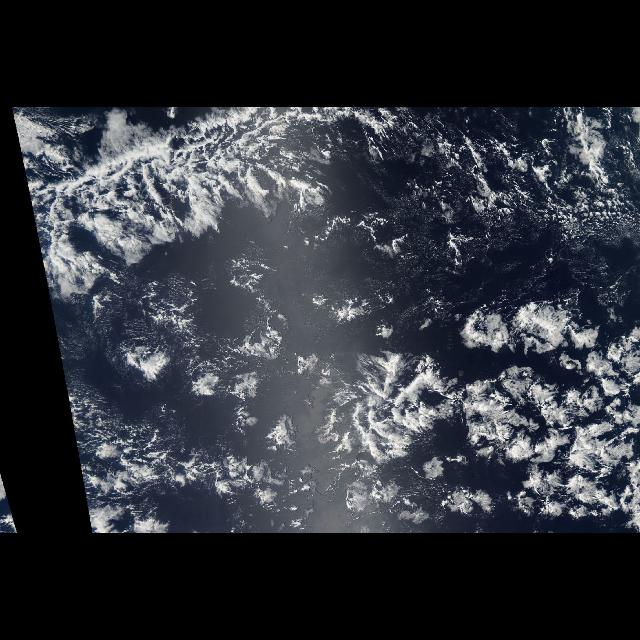Fish: (19, 108, 357, 282), (352, 348, 618, 486)
Flower: (343, 291, 639, 524), (88, 294, 300, 422)
